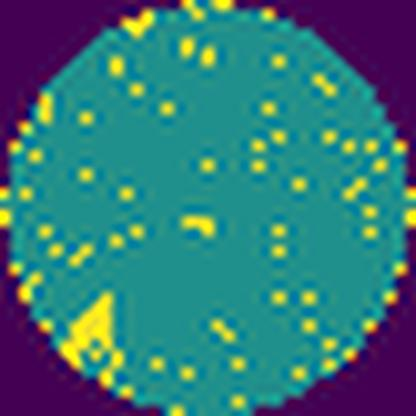Edge-Loc: (61, 295, 124, 380)
